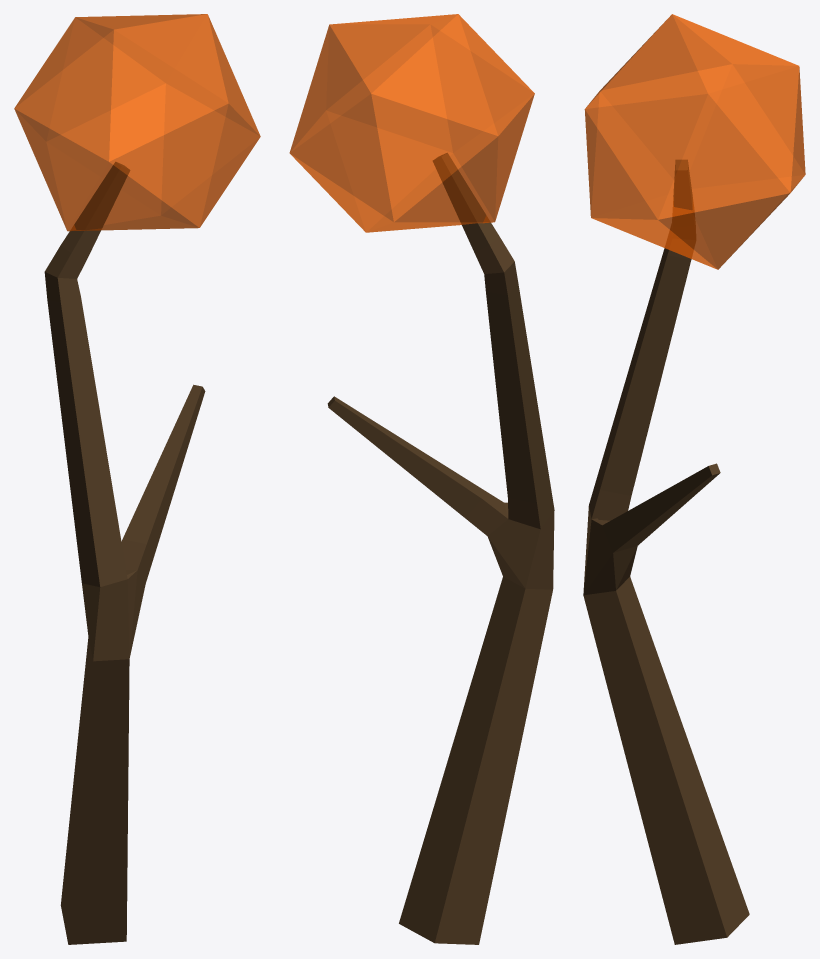
File: tree6.glb
The picture shows the model from 3 angles, left to right: view 1: azimuth 30°, elevation 25°; view 2: azimuth 150°, elevation 25°; view 3: azimuth 270°, elevation 25°; orthographic projection.
Parts seen in each view (by area): view 1: Cube.001, Icosphere.006; view 2: Cube.001, Icosphere.006; view 3: Icosphere.006, Cube.001.
Part boxes in pixels (box(x1,y1,x2,y2)): Cube.001: box(44, 162, 205, 944); Icosphere.006: box(14, 14, 260, 231); Cube.001: box(327, 153, 554, 944); Icosphere.006: box(289, 14, 534, 232); Icosphere.006: box(584, 14, 805, 269); Cube.001: box(583, 160, 749, 944).
Bounding box in the file's own units: 3.5 × 14.61 × 3.19.
